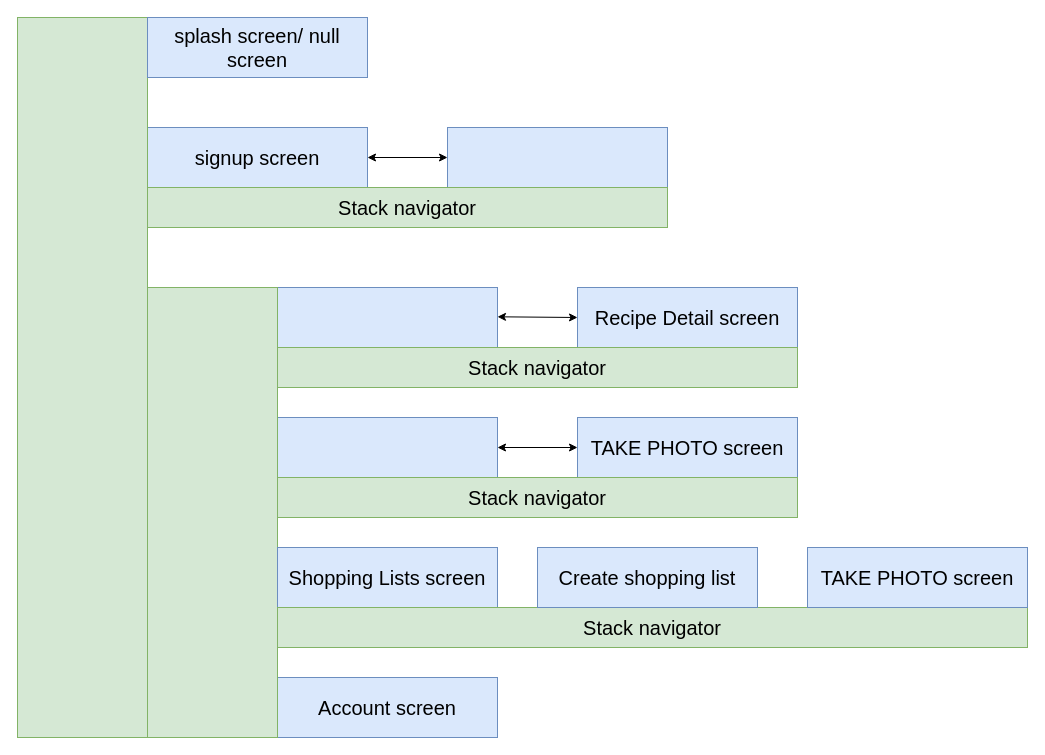
Some shapes in this 1045 by 755 pixel diagram are drawn without their labels. The centre of each missing label's shape, as x and y in pixels:
Bottom tab navigator: (x=212, y=512)
Recipe Create screen: (x=387, y=447)
Recipe screen: (x=387, y=317)
sign in screen: (x=557, y=157)
Switch navigator: (x=82, y=377)
